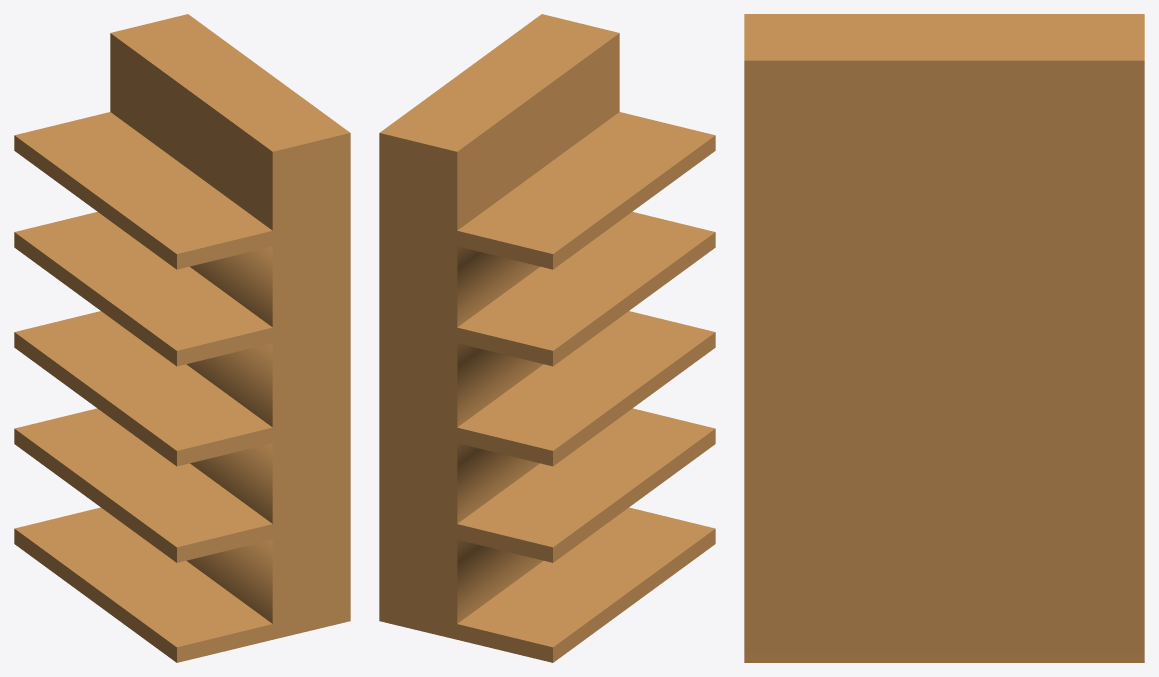
The model's file is Shelf.glb.
The picture shows the model from 3 angles, left to right: view 1: azimuth 30°, elevation 25°; view 2: azimuth 150°, elevation 25°; view 3: azimuth 270°, elevation 25°; orthographic projection. The views are drawn at different scales.
Visible parts, largest first — view 1: Box001; view 2: Box001; view 3: Box001.
Part boxes in pixels (<box>): Box001: <box>14,14,350,662</box>; Box001: <box>379,14,715,662</box>; Box001: <box>744,14,1144,662</box>.
Bounding box in the file's own units: 0.7722 × 2.07 × 1.25.
